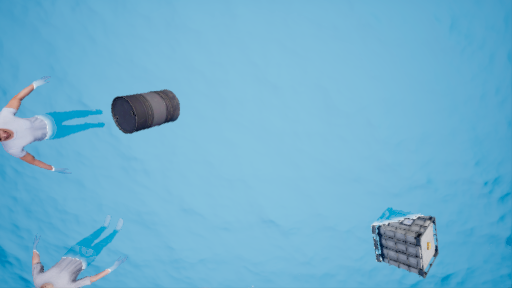person: (1, 81, 96, 169), (24, 219, 136, 286)
